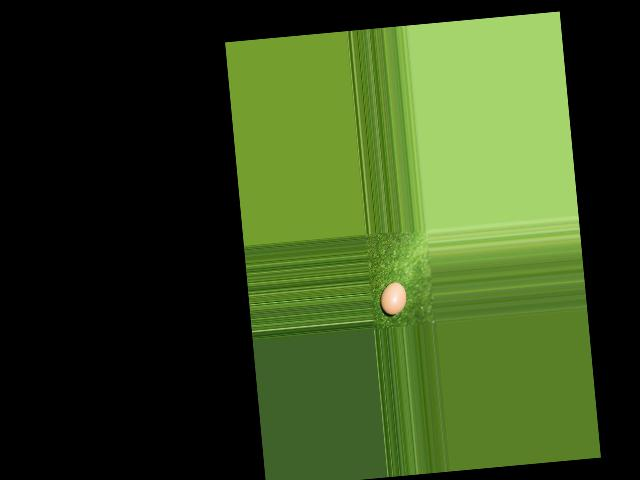egg: (378, 280, 407, 315)
